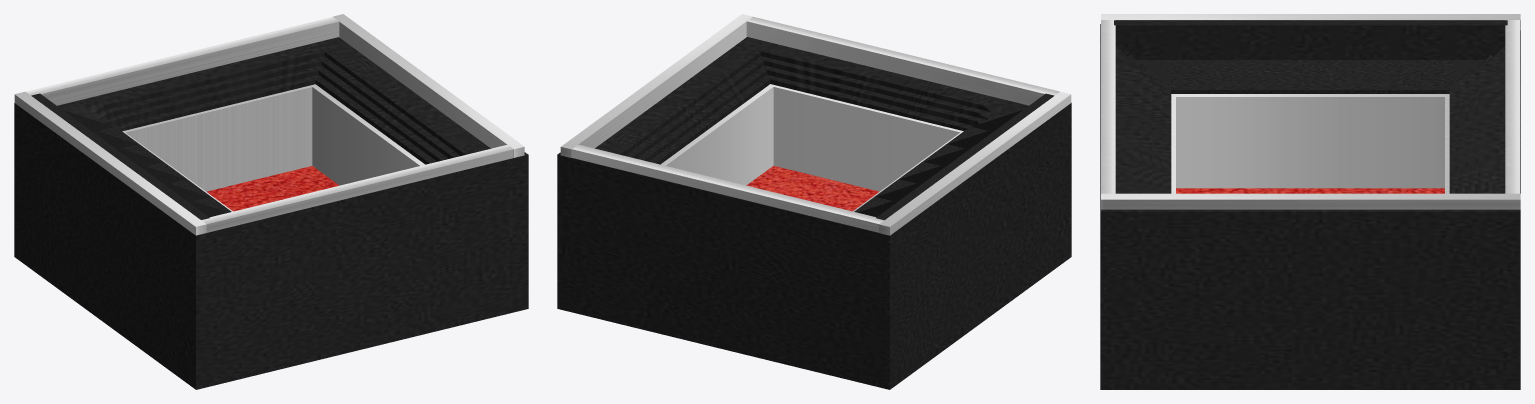
File: Dice Container_verson3.fbx
The picture shows the model from 3 angles, left to right: view 1: azimuth 30°, elevation 25°; view 2: azimuth 150°, elevation 25°; view 3: azimuth 270°, elevation 25°; orthographic projection. The views are drawn at different scales.
Parts seen in each view (by area): view 1: Cotainer, Red Carpet; view 2: Cotainer, Red Carpet; view 3: Cotainer, Red Carpet.
Boxes of the visible parts, left/top/right/bottom form: Cotainer: left=14, top=14, right=528, bottom=389; Red Carpet: left=206, top=166, right=338, bottom=211; Cotainer: left=557, top=14, right=1071, bottom=389; Red Carpet: left=746, top=165, right=879, bottom=211; Cotainer: left=1100, top=14, right=1520, bottom=389; Red Carpet: left=1176, top=188, right=1444, bottom=193.
Bounding box in the file's own units: 384 × 180 × 364.
Materials: 9 (9 with a texture image).
